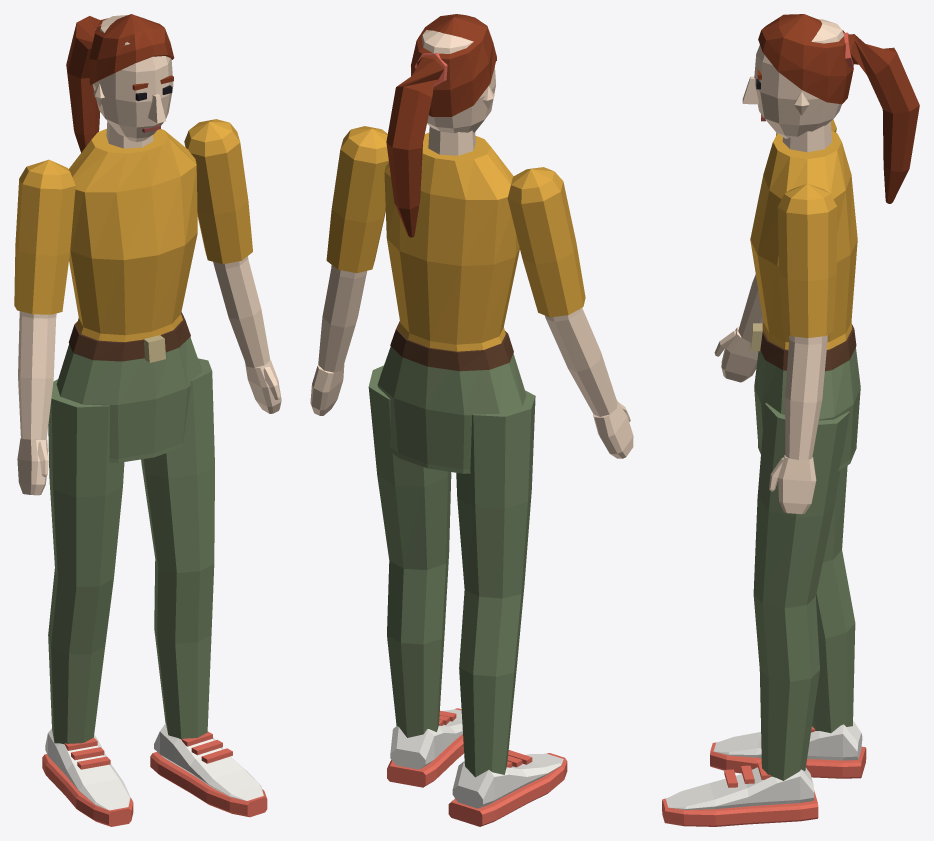
The model's file is HUMAN_02.obj.
3 renders of one model, left to right at view 1: azimuth 30°, elevation 25°; view 2: azimuth 150°, elevation 25°; view 3: azimuth 270°, elevation 25°, orthographic.
Parts seen in each view (by area): view 1: torso, legwear_R, legwear_L, pelvis_bottom, sleeve_R, sleeve_L, hair, shoe_L, shoe_R, head, arm_R, arm_L (+5 smaller); view 2: legwear_R, torso, legwear_L, pelvis_bottom, hair, sleeve_R, sleeve_L, shoe_R, shoe_L, arm_R, arm_L, belt (+4 smaller); view 3: legwear_L, hair, torso, sleeve_L, legwear_R, shoe_L, shoe_R, pelvis_bottom, arm_L, head, hand_L, belt (+4 smaller).
Boxes of the visible parts, x1,y1,x2,y2 form: torso: (68,128,197,342); legwear_R: (48,379,124,744); legwear_L: (141,358,214,739); pelvis_bottom: (56,337,202,462); sleeve_R: (14,159,75,314); sleeve_L: (184,119,252,264); hair: (66,14,174,152); shoe_L: (150,723,267,817); shoe_R: (42,728,133,826); head: (92,15,173,142); arm_R: (18,311,56,439); arm_L: (213,256,270,367); legwear_R: (456,390,535,777); torso: (384,132,519,351); legwear_L: (368,365,451,737); pelvis_bottom: (377,346,526,473); hair: (386,14,496,237); sleeve_R: (507,167,585,317); sleeve_L: (326,126,388,273); shoe_R: (448,750,567,826); shoe_L: (387,708,463,787); arm_R: (545,308,617,416); arm_L: (318,265,366,372); belt: (390,321,513,371); legwear_L: (753,403,849,780); hair: (758,14,919,203); torso: (750,131,857,349); sleeve_L: (777,184,837,337); legwear_R: (812,465,855,732); shoe_L: (662,762,818,826); shoe_R: (710,720,866,778); pelvis_bottom: (754,347,860,471); arm_L: (785,335,827,459); head: (754,19,843,138); hand_L: (769,455,816,514); belt: (750,323,856,371).
Bounding box in the file's own units: 0.6429 × 1.68 × 0.5049.
